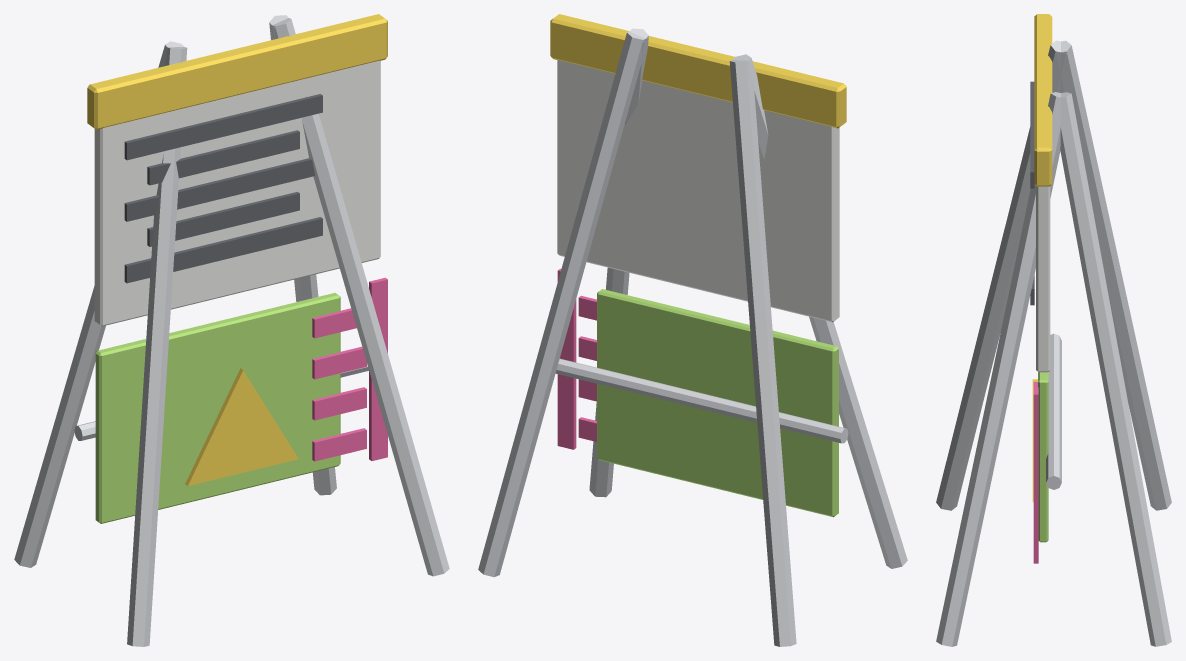
File: trampoline-park-and-soft-play-safety-sign-set-7bc92d7a.glb
3 renders of one model, left to right at view 1: azimuth 30°, elevation 25°; view 2: azimuth 150°, elevation 25°; view 3: azimuth 270°, elevation 25°, orthographic. The views are drawn at different scales.
Visible parts, largest first — view 1: safety-sign-set; view 2: safety-sign-set; view 3: safety-sign-set.
Boxes of the visible parts, x1=… form: safety-sign-set: x1=14, y1=14, x2=449, y2=646; safety-sign-set: x1=478, y1=14, x2=907, y2=646; safety-sign-set: x1=936, y1=14, x2=1171, y2=646.
Size of the model in its own units: 0.9711 by 1.57 by 0.6588.
